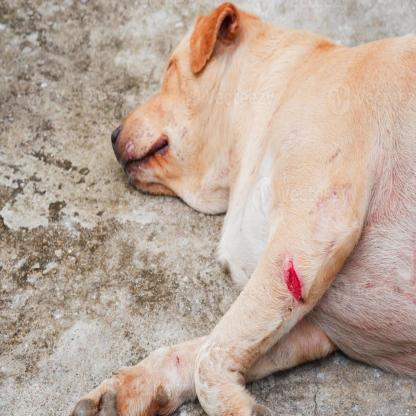dog: (119, 8, 416, 416)
injured: (283, 248, 307, 317)
